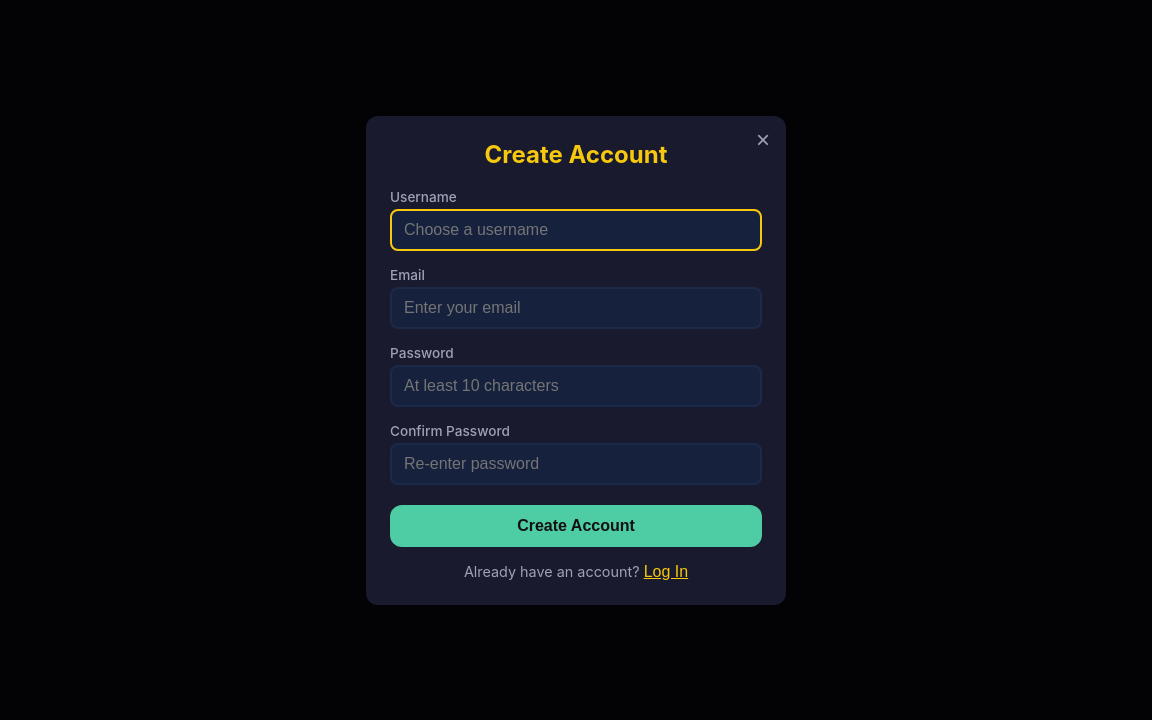
Scenario: AuthModal › switches from register to login when Log In link is clicked
Expected: the heading "Create Account" is shown, 484,140 -> 668,168
# The link is the btn-link button type
Click the button "Log In" at (666, 572), box 644,562 -> 688,580
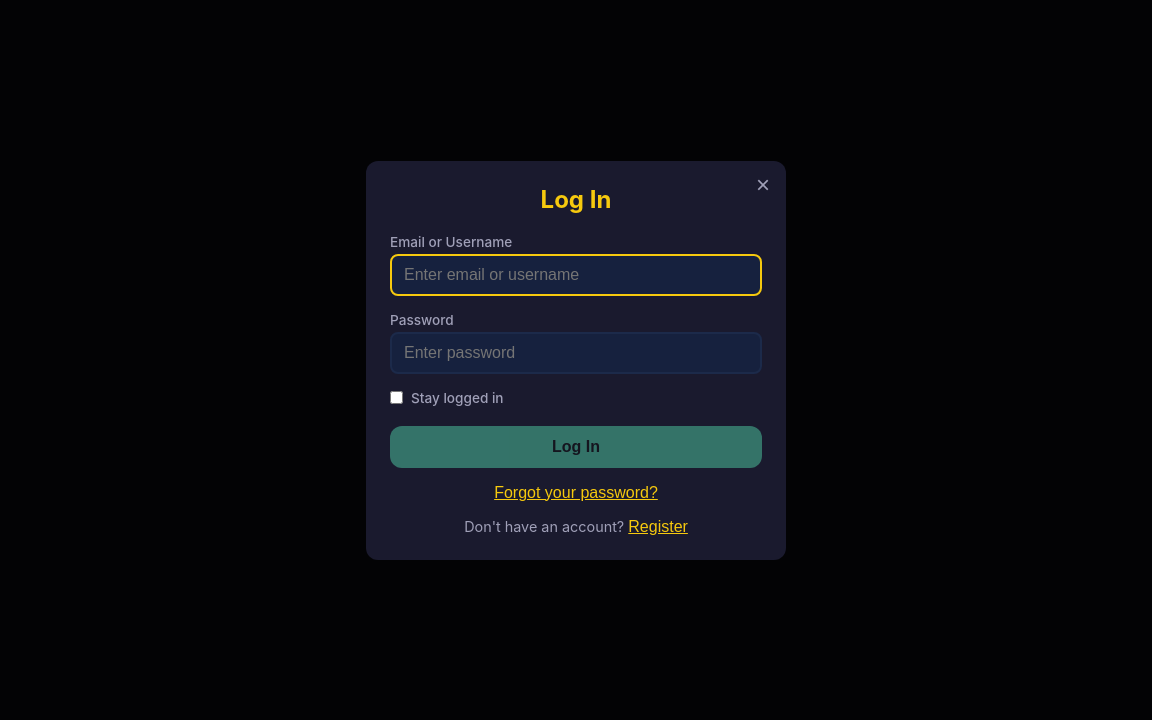
Result: the heading "Log In" is shown at 541,184 -> 611,214
